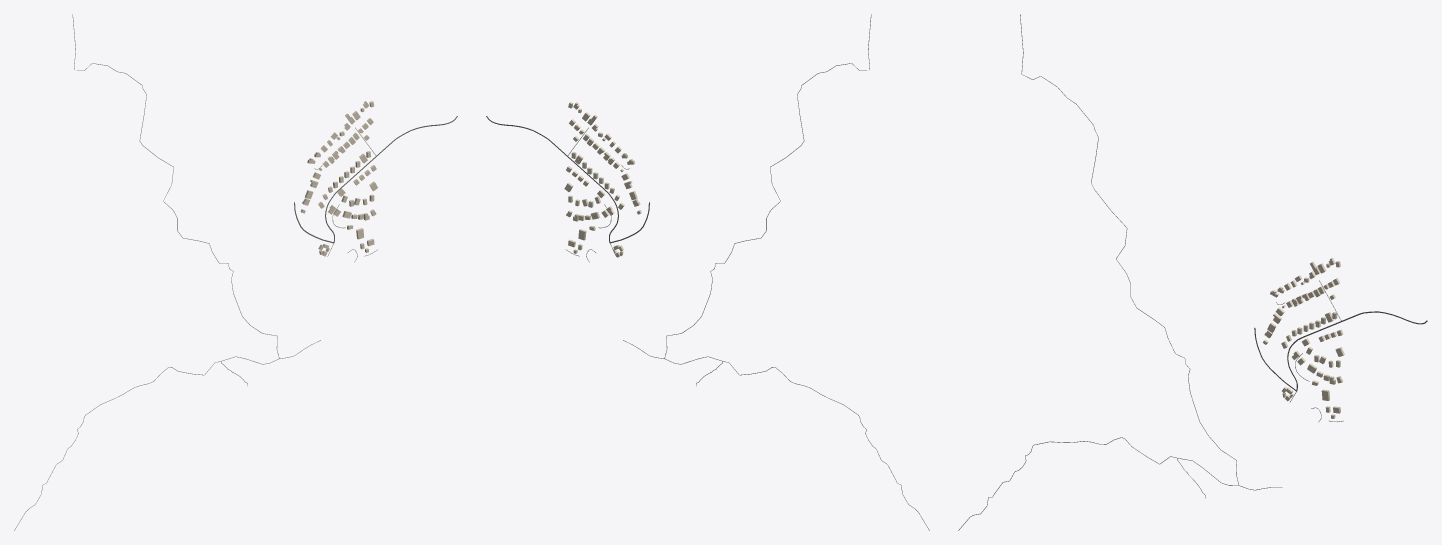
File: historic-palestine-09_27_3509_3215.glb
3 views of the same model, side by side, from view 1: azimuth 30°, elevation 25°; view 2: azimuth 150°, elevation 25°; view 3: azimuth 330°, elevation 25° (orthographic). The views are drawn at different scales.
Visible parts, largest first — view 1: Road שביל נופים לנחל קנה; view 2: Road שביל נופים לנחל קנה; view 3: Road שביל נופים לנחל קנה.
Part boxes in pixels (x1,y1,x2,y2): Road שביל נופים לנחל קנה: (72, 14, 279, 358); Road שביל נופים לנחל קנה: (664, 14, 871, 358); Road שביל נופים לנחל קנה: (1020, 14, 1238, 484).
Bounding box in the file's own units: 1370 × 1483 × 8.7.
